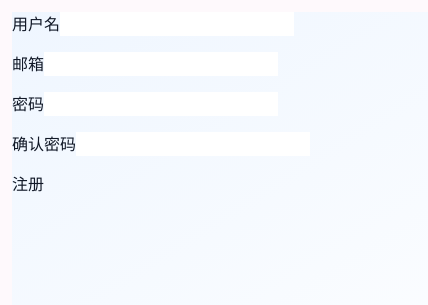
RegisterForm › should validate email format
Type "invalid-email" into the field labelled "邮箱" at (161, 64), box top-left (44, 52), bottom-right (278, 76)
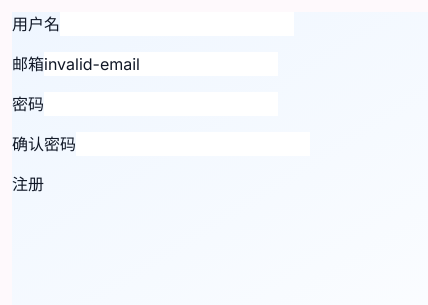
Click the button "注册" at (28, 184), box top-left (12, 172), bottom-right (44, 196)
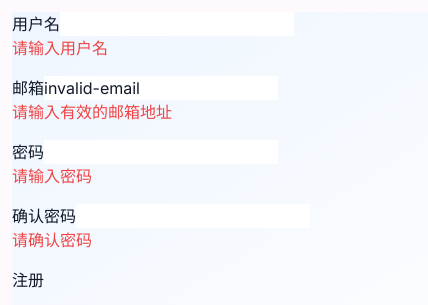
Expected: the text "请输入有效的邮箱地址" is shown, top-left (12, 102), bottom-right (172, 122)
